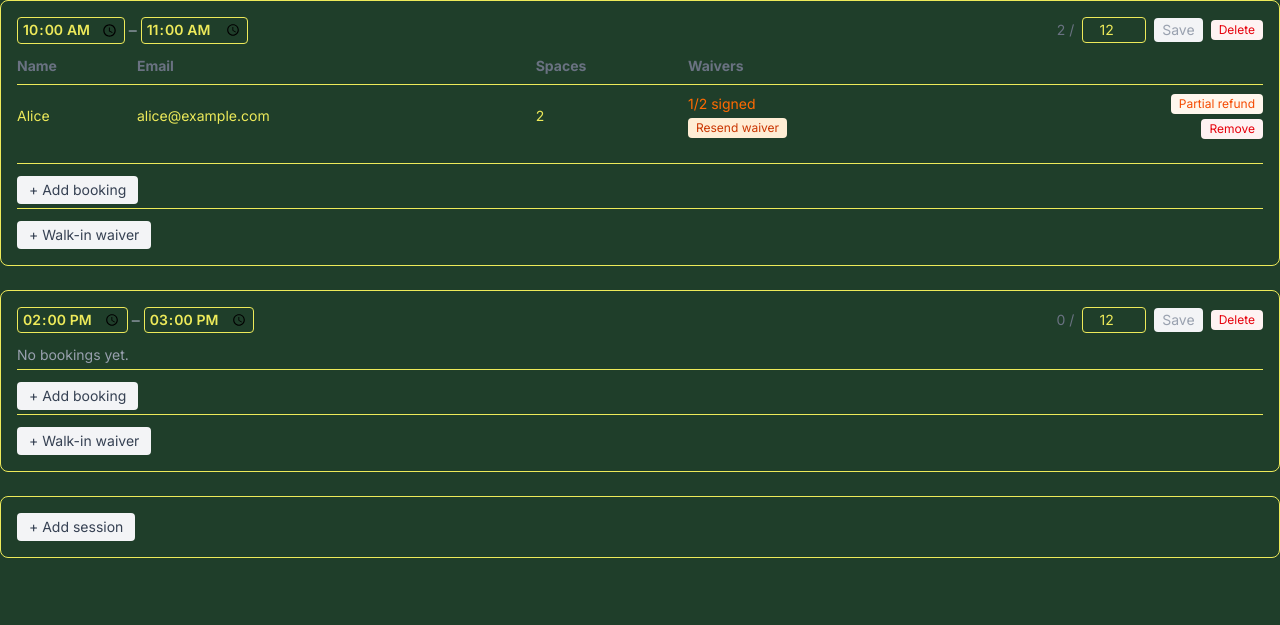
Test: SlotCapacityEditor › creates a booking with payment_link mode when selected
Click the button "+ Add booking" below "No bookings yet." at (78, 396), box [17, 382, 138, 410]
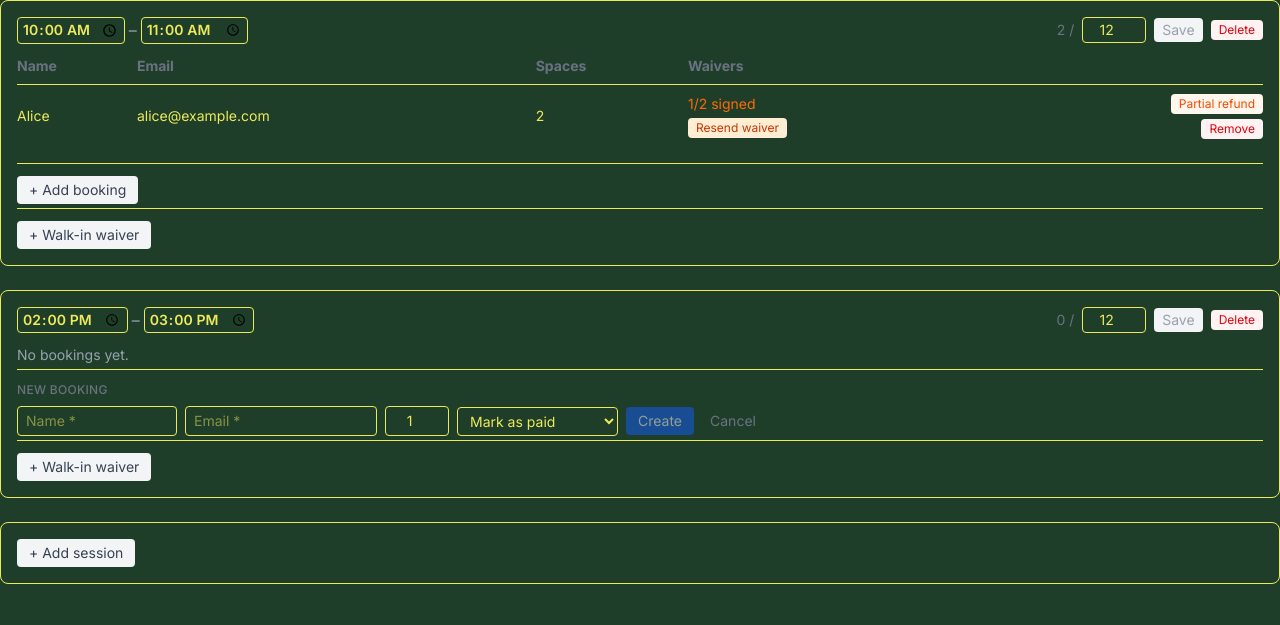
Type "Dana" into the field with placeholder "Name *" at (97, 421), box [17, 406, 177, 436]
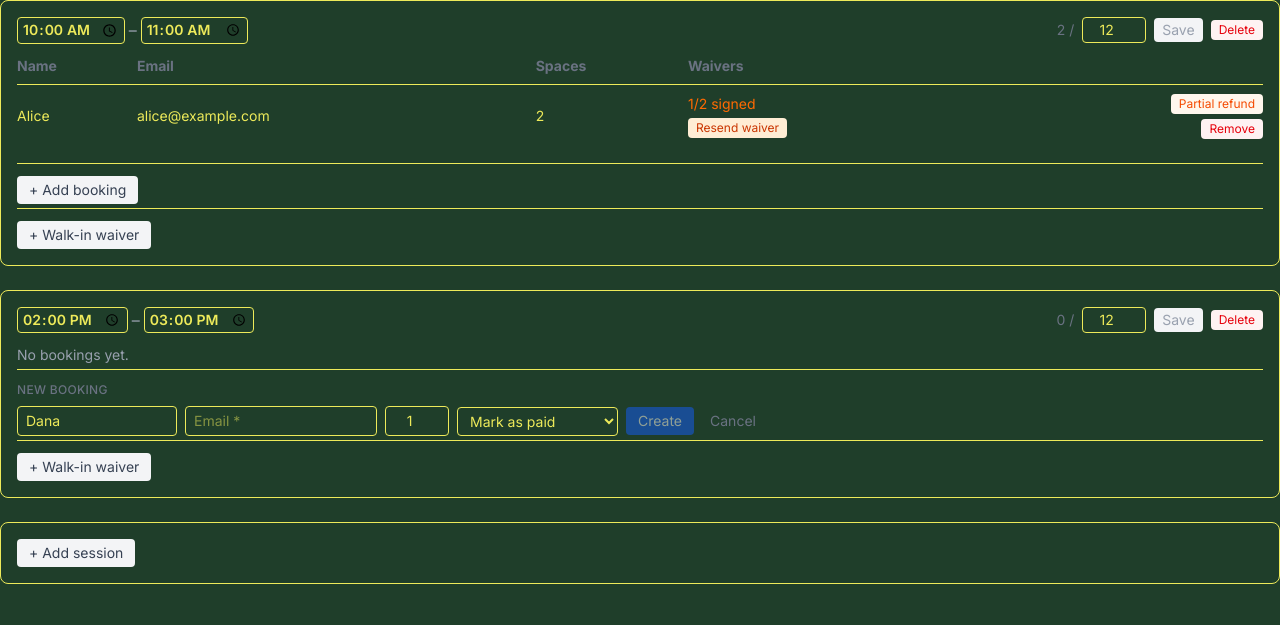
Type "dana@example.com" into the field with placeholder "Email *" at (281, 421), box [185, 406, 377, 436]
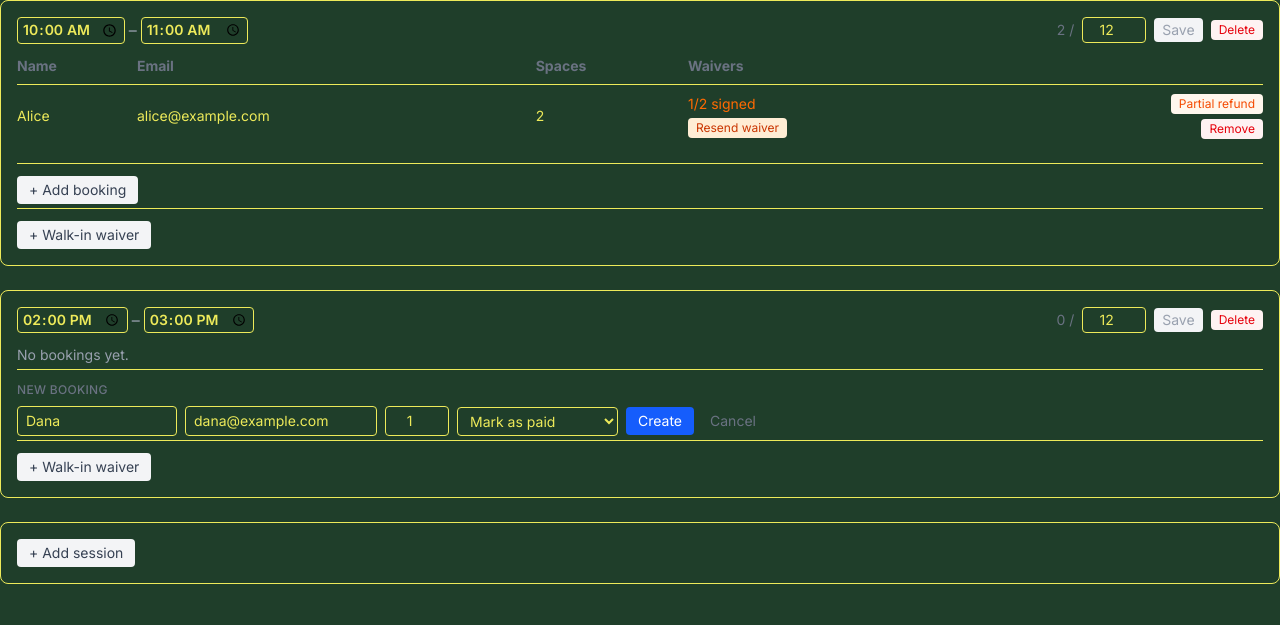
Replace the text in the number field titled "Spaces" with "3" at (417, 421), box [385, 406, 449, 436]
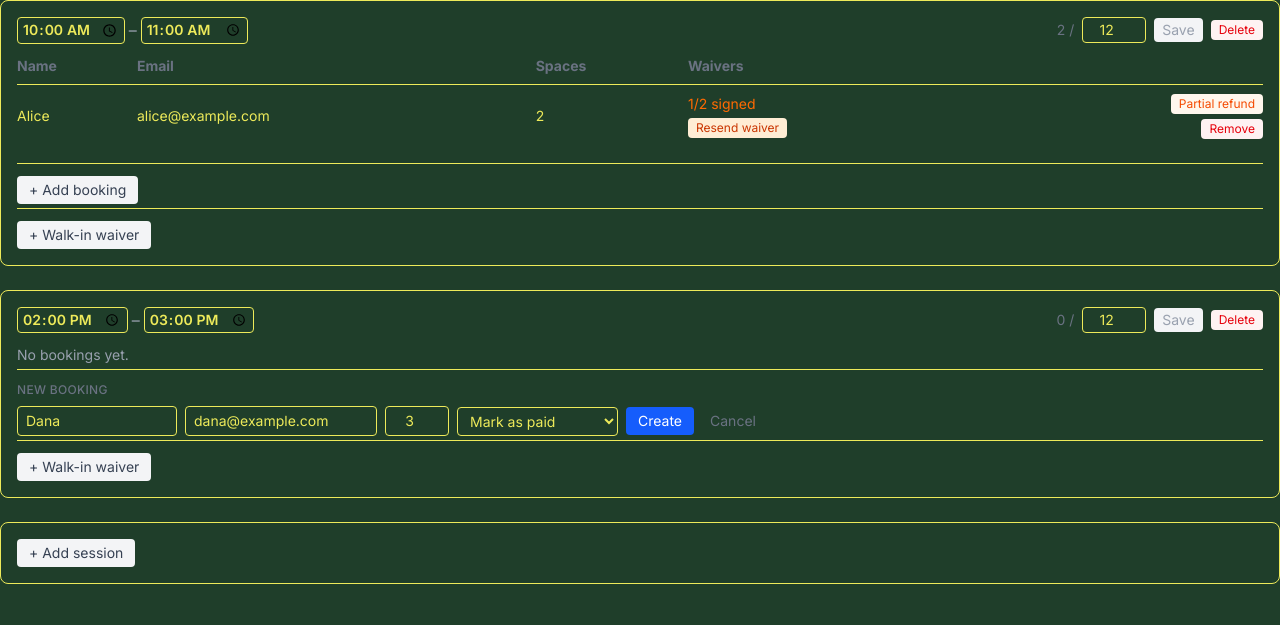
Select "Send payment link" in the dropdown showing "Mark as paid" at (538, 421), box [457, 407, 618, 436]
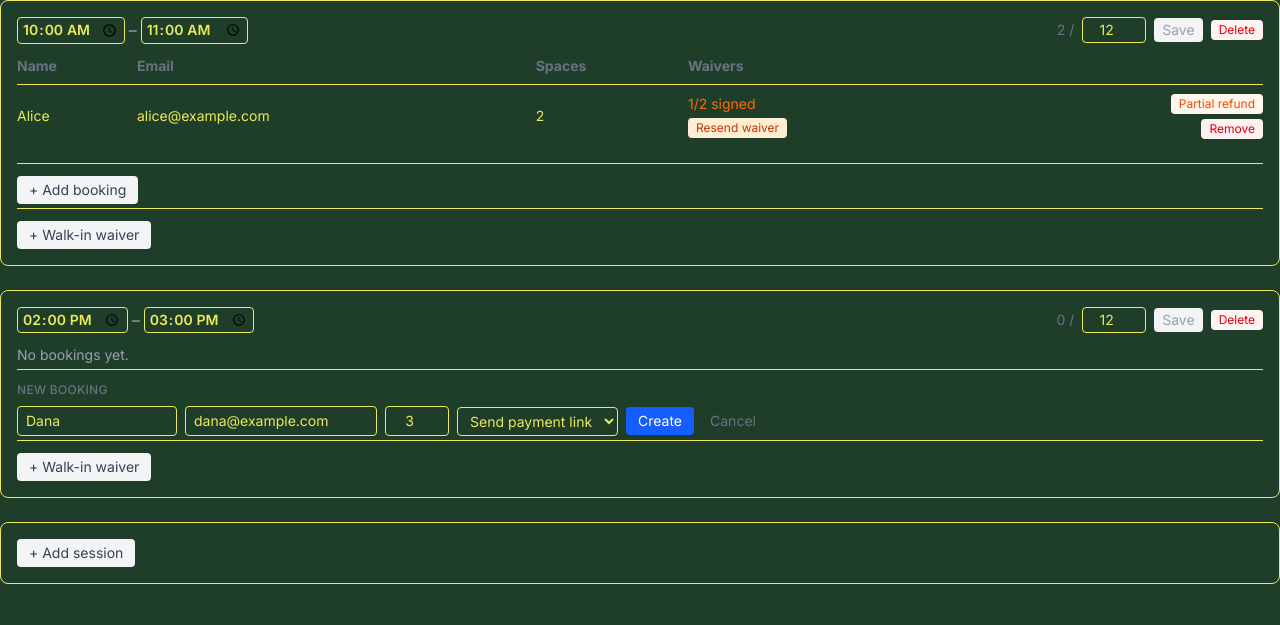
Click the button "Create" at (660, 421), box [626, 407, 694, 435]
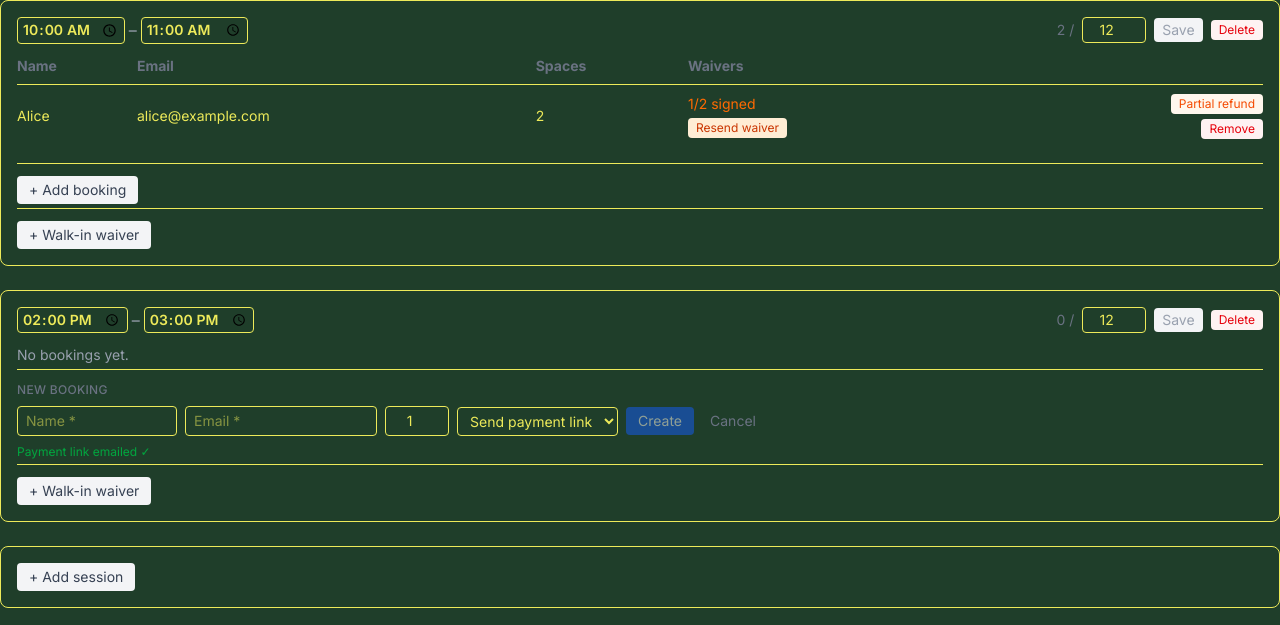
Check: the text "Payment link emailed ✓" is shown, box [17, 444, 151, 459]
